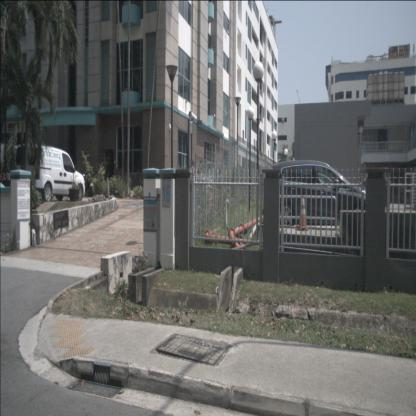movable_object-trafficcone: (296, 193, 310, 230)
vehicle-car: (271, 160, 376, 230), (16, 143, 85, 202)
vehicle-motorcycle: (83, 170, 95, 198)
